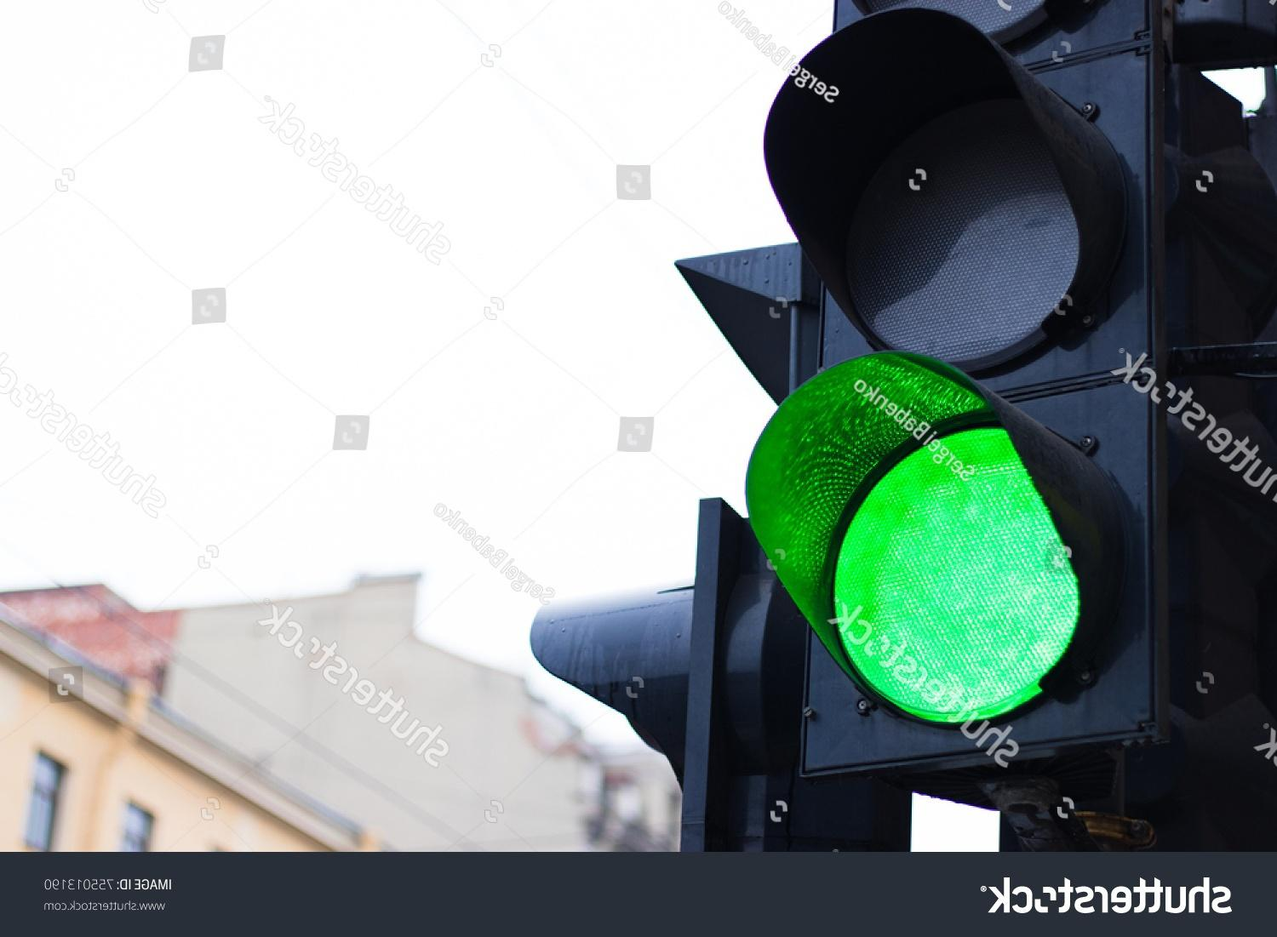Traffic light green: (768, 0, 1171, 787)
